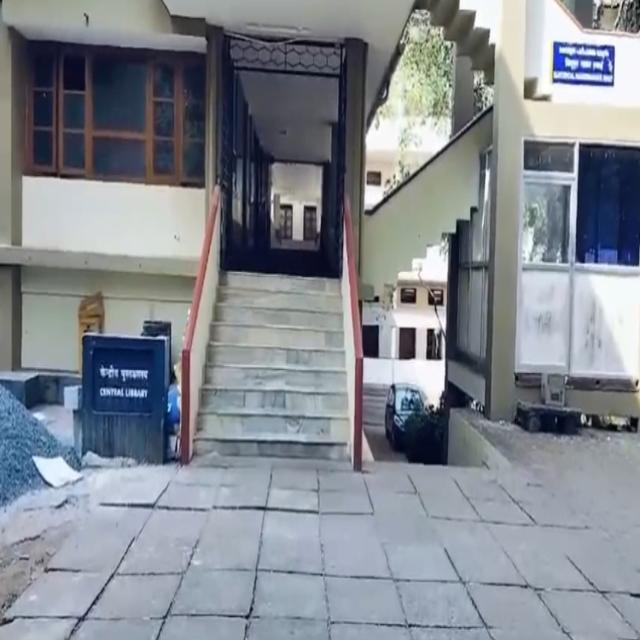barrier ahead at: (82, 331, 169, 475)
stairs ahead at: (194, 272, 350, 457)
